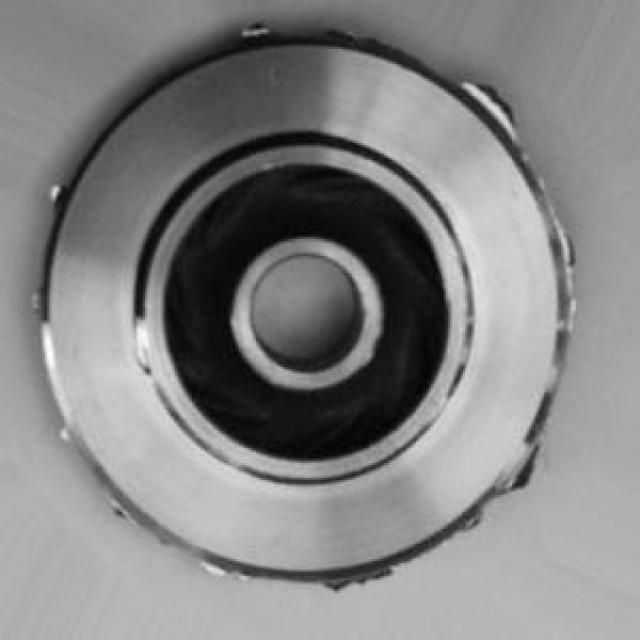Defect: (472, 66, 522, 141)
